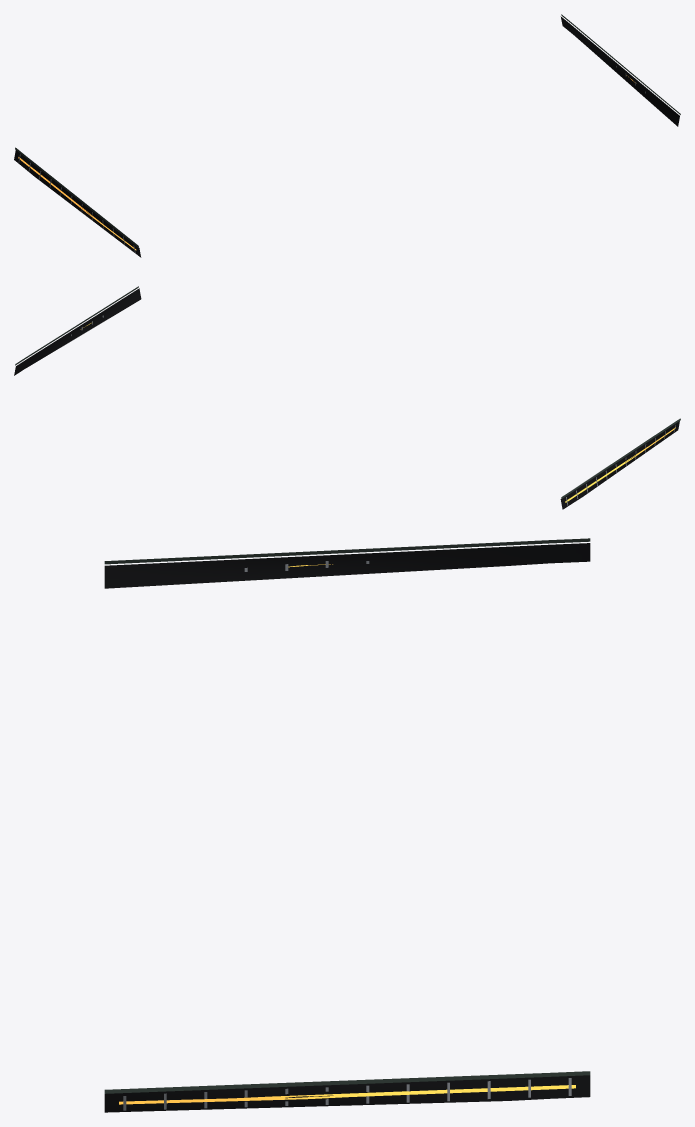
The model's file is wraith_cooling_lg.fbx.
3 renders of one model, top to bottom at view 1: azimuth 30°, elevation 25°; view 2: azimuth 150°, elevation 25°; view 3: azimuth 270°, elevation 25°, orthographic. The views are drawn at different scales.
Parts seen in each view (by area): view 1: Cooling_Prong_channels; view 2: Cooling_Prong_channels; view 3: Cooling_Prong_channels.
Part boxes in pixels (x1,y1,x2,y2): Cooling_Prong_channels: (14,14,680,257); Cooling_Prong_channels: (14,286,680,509); Cooling_Prong_channels: (104,538,590,1112).
Size of the model in its own units: 166 by 6.65 by 63.76.
